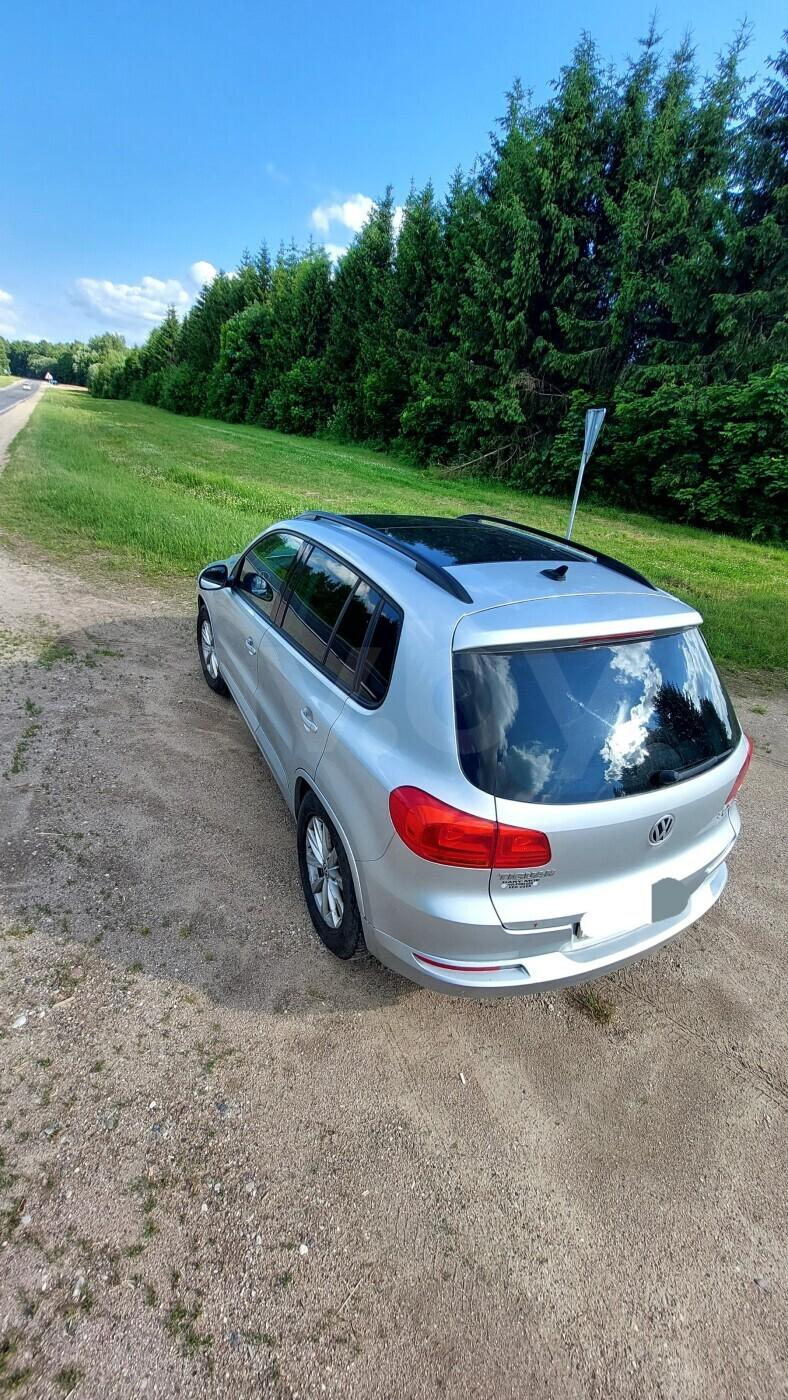Tiguan_2011-2018: (190, 512, 754, 994)
